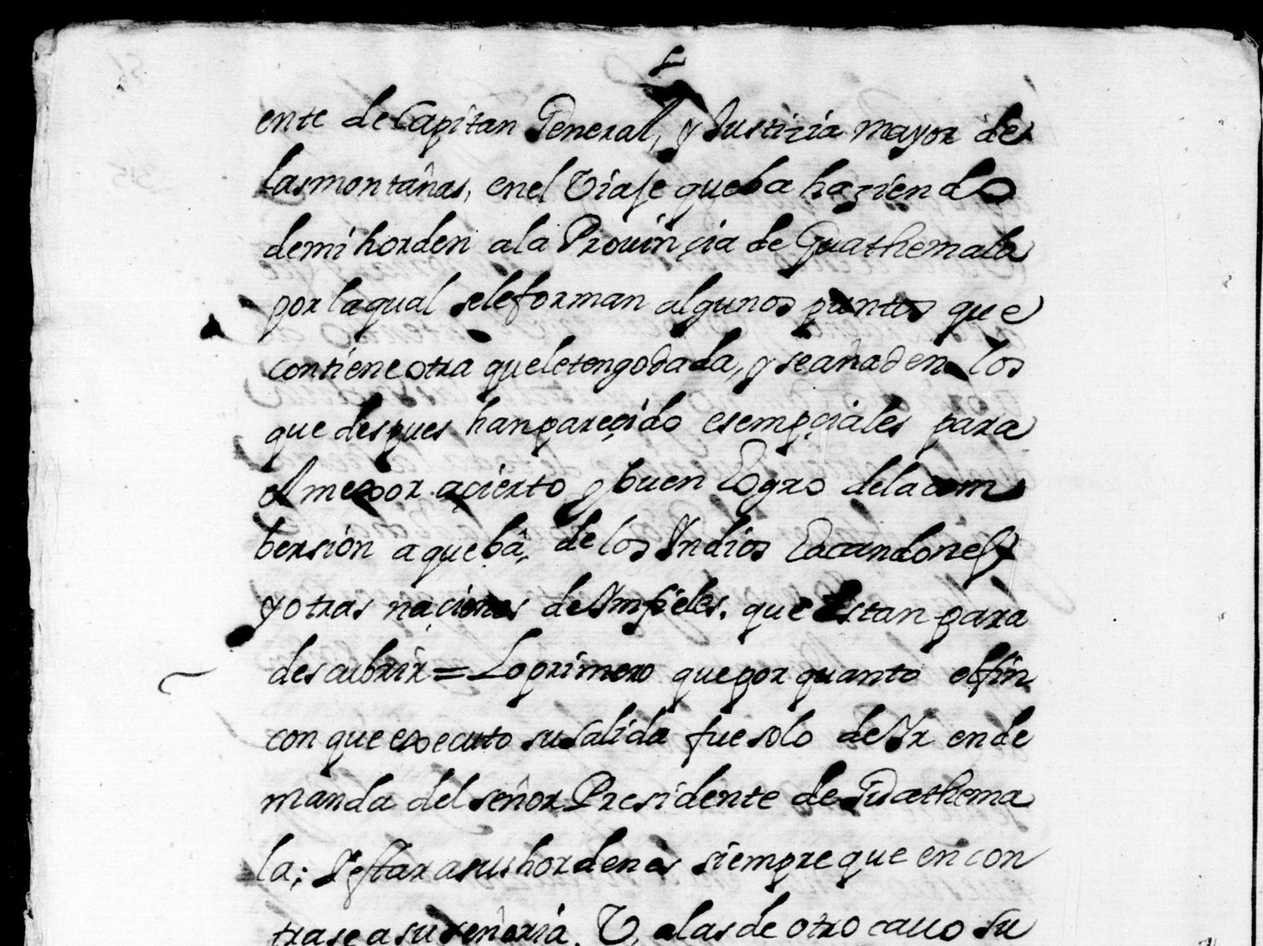lacandon: (785, 517, 1019, 590)
